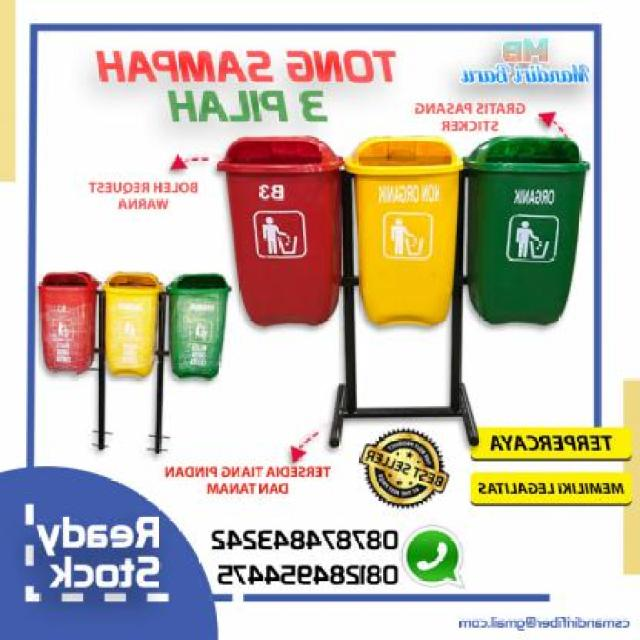garbage container: (213, 127, 347, 339), (466, 132, 592, 354), (348, 130, 462, 335), (158, 270, 235, 390), (96, 266, 164, 385), (37, 270, 100, 382)
